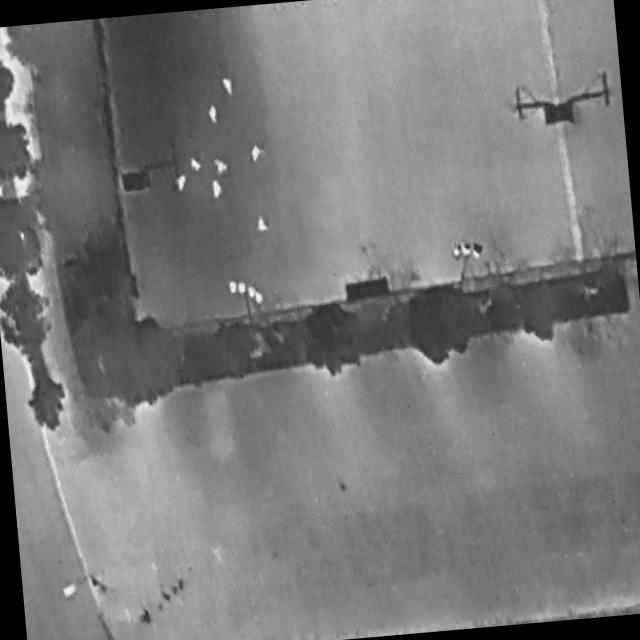person: (215, 157, 229, 176), (212, 180, 224, 200), (256, 214, 269, 232), (177, 173, 188, 193), (224, 78, 234, 96), (208, 106, 218, 124), (252, 145, 261, 163), (191, 159, 202, 172)
